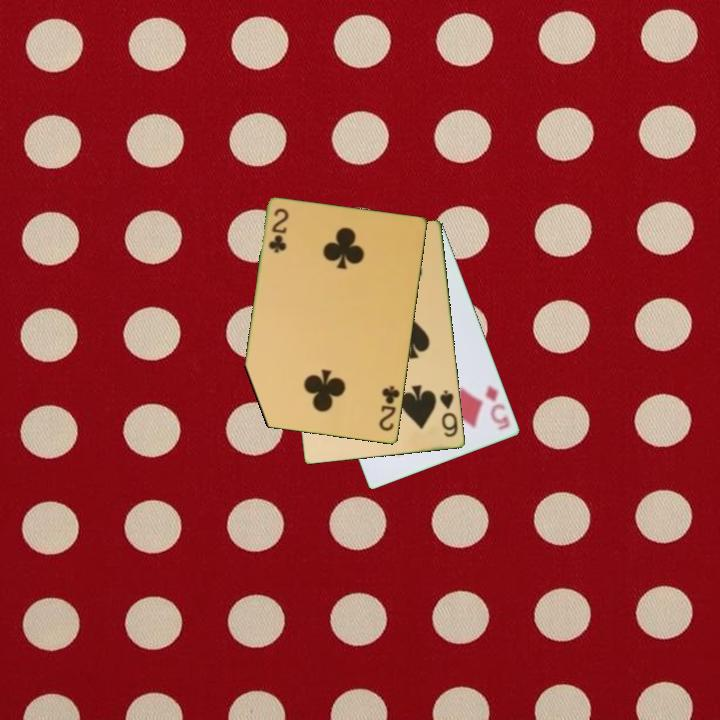2c: (265, 205, 292, 256), (376, 382, 402, 434)
5d: (482, 381, 514, 433)
6s: (437, 387, 461, 440)
